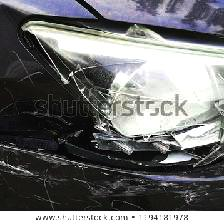head_lamp: (12, 14, 223, 205)
